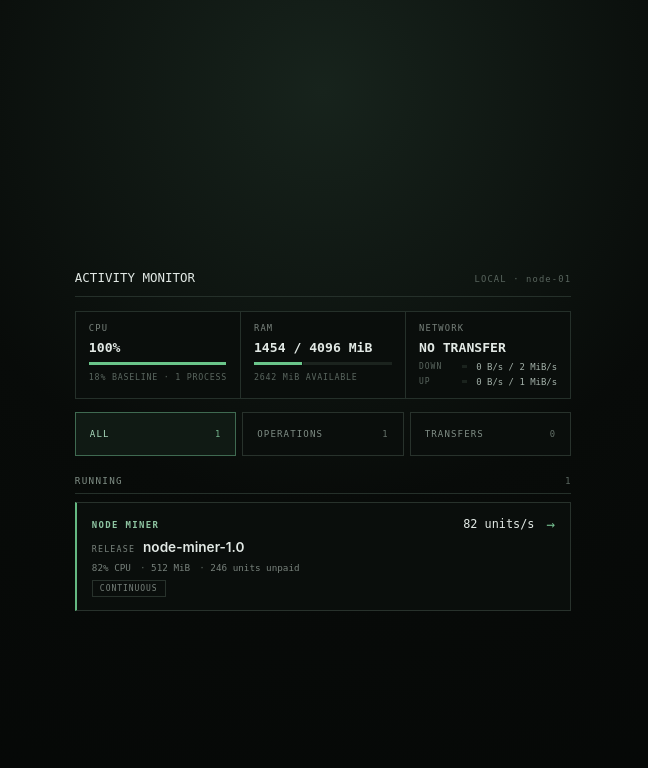
Test: Activity Monitor: continuous NODE Miner runtime › presents the same unpaid production whether or not the address matches the represented Wallet
Click the button with class "am-row" at [126, 524], box [75, 502, 571, 610]
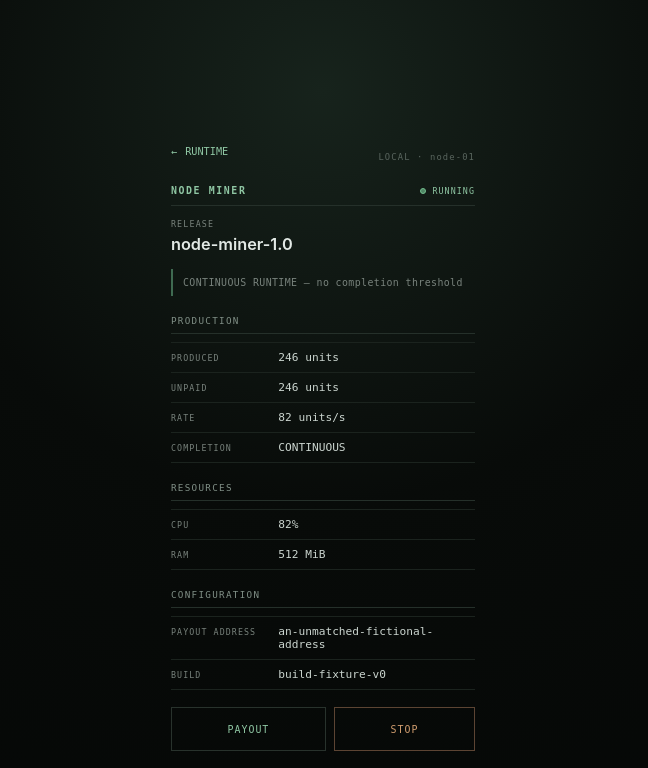
expect the text "246 units" next to "PRODUCED" is shown: met, box [278, 351, 339, 364]
expect the text "an-unmatched-fictional-address" is shown: met, box [278, 625, 433, 651]
